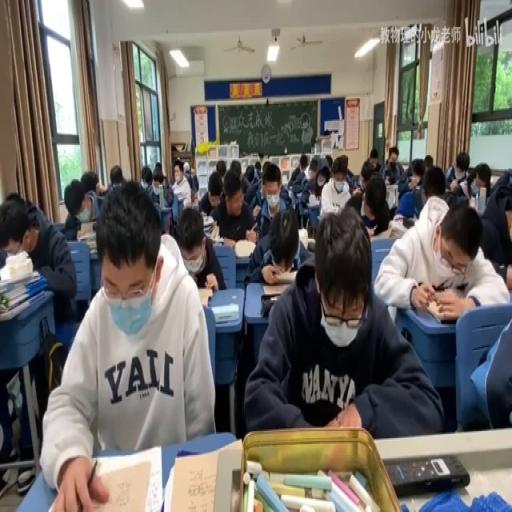calculator: (48, 444, 161, 509), (164, 448, 230, 512), (0, 287, 45, 320), (414, 289, 454, 323), (0, 267, 42, 294), (198, 283, 237, 310), (262, 279, 294, 296), (389, 214, 410, 238), (234, 238, 256, 258), (272, 267, 298, 283), (384, 182, 397, 208), (201, 215, 216, 236), (211, 310, 238, 321), (206, 232, 224, 244), (298, 228, 308, 248), (308, 192, 318, 206), (88, 246, 98, 257), (249, 220, 258, 232)
paper: (246, 205, 438, 438), (0, 190, 77, 486), (461, 294, 510, 428), (174, 202, 224, 290), (479, 174, 512, 273), (252, 160, 290, 238), (354, 171, 394, 239), (62, 174, 102, 238), (319, 155, 352, 218), (149, 162, 176, 228), (286, 153, 310, 222), (197, 169, 225, 218), (398, 152, 422, 196), (466, 162, 492, 202), (445, 149, 470, 189), (422, 164, 446, 199), (383, 145, 403, 182), (238, 159, 254, 192), (344, 159, 360, 192), (182, 159, 196, 192), (140, 164, 154, 192), (346, 192, 363, 212), (109, 164, 122, 186), (228, 158, 241, 179), (215, 159, 226, 178), (339, 154, 349, 174), (261, 161, 270, 182), (423, 154, 433, 172), (308, 158, 318, 176), (299, 154, 308, 172), (5, 189, 21, 199), (96, 182, 106, 195), (152, 174, 162, 186), (325, 154, 332, 170), (254, 160, 262, 174), (370, 148, 378, 162), (162, 175, 168, 189)
person: (384, 454, 470, 496), (259, 294, 279, 316)
